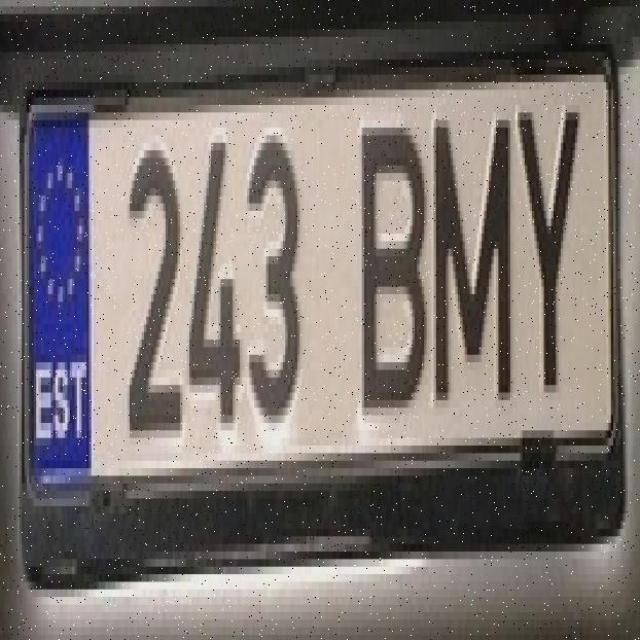license-plate: (21, 54, 610, 546)
